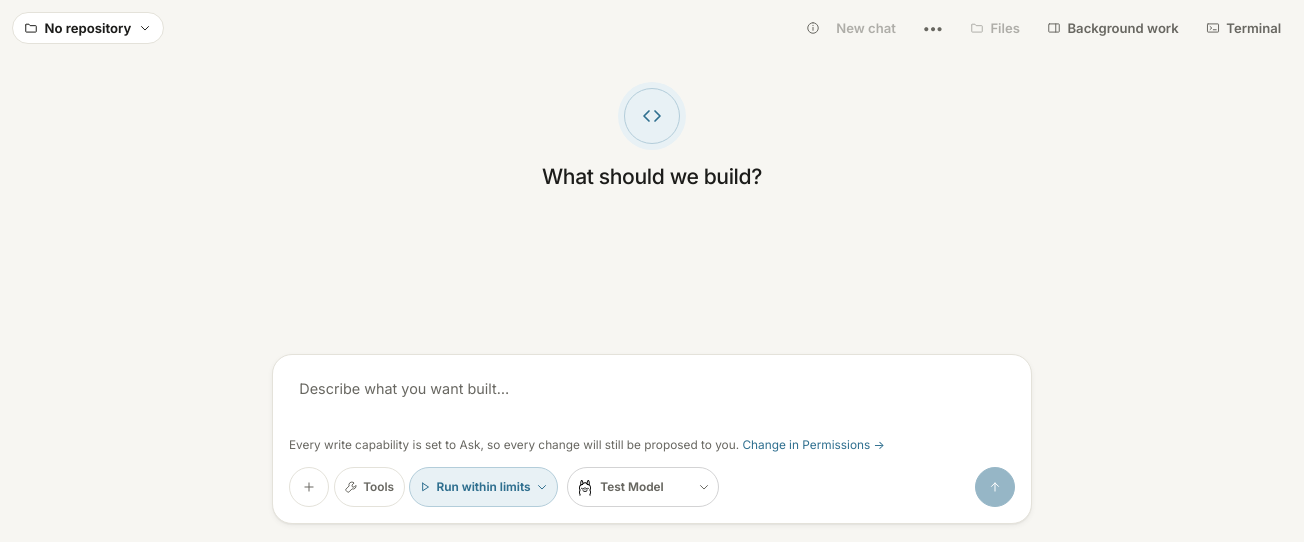
Build's artifact zone › opens the governed terminal beside the conversation, not under it
The image size is (1304, 542).
Click the button named "Add to this turn" at (309, 487), box [289, 467, 329, 507]
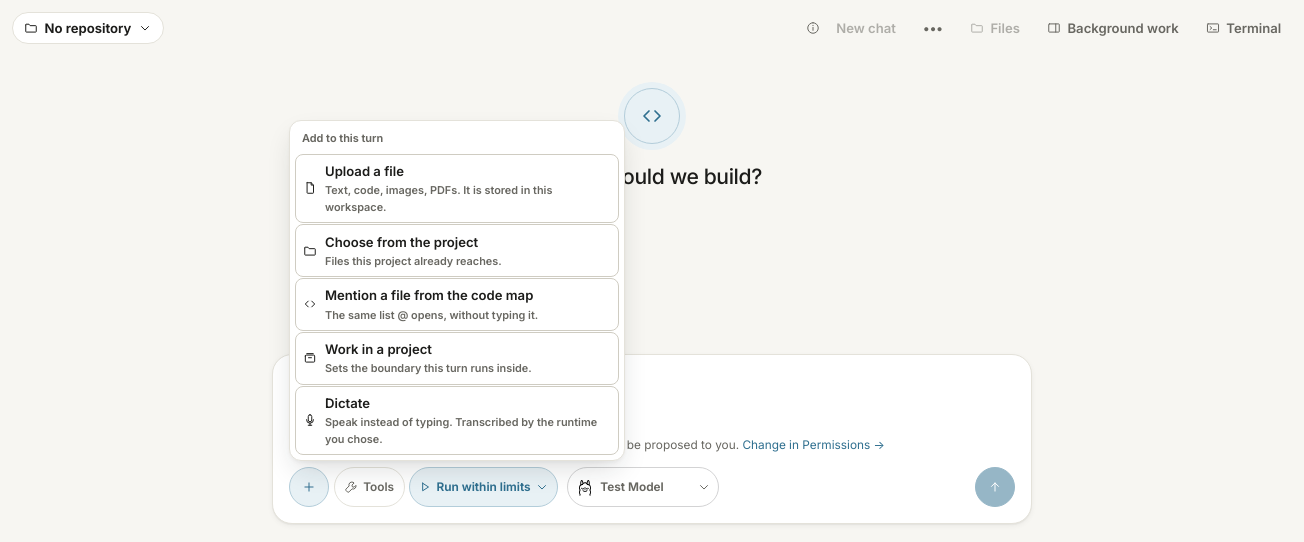
Click the menu item "Work in a project" at (378, 349), box [295, 332, 619, 385]
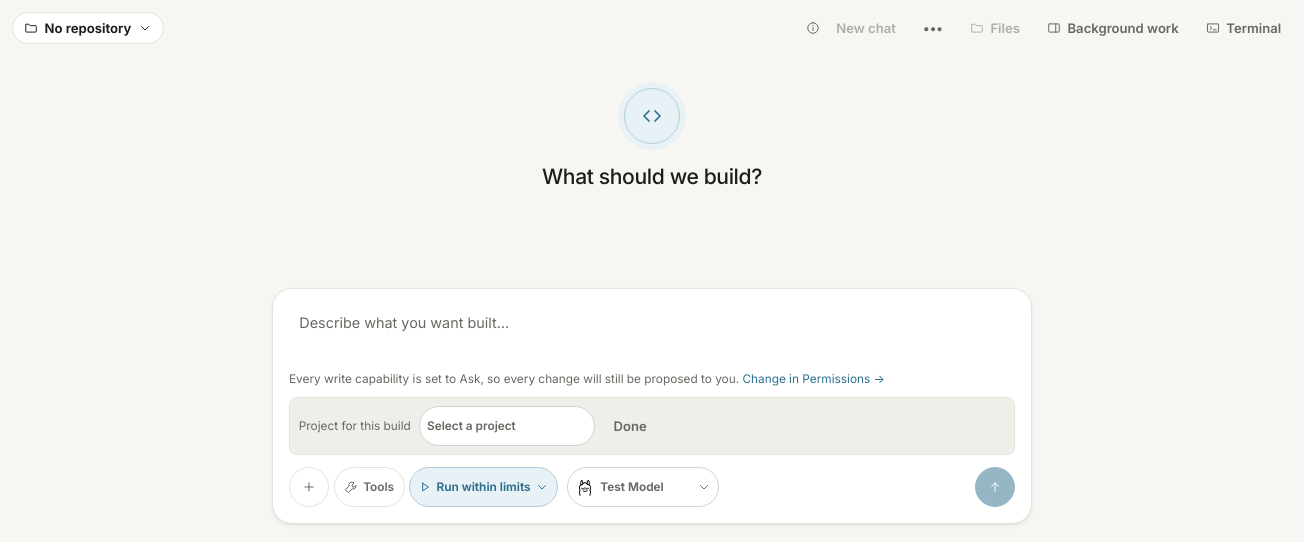
Select "Landing page" in the dropdown labelled "Project for this build" at (507, 426), box [419, 406, 595, 446]
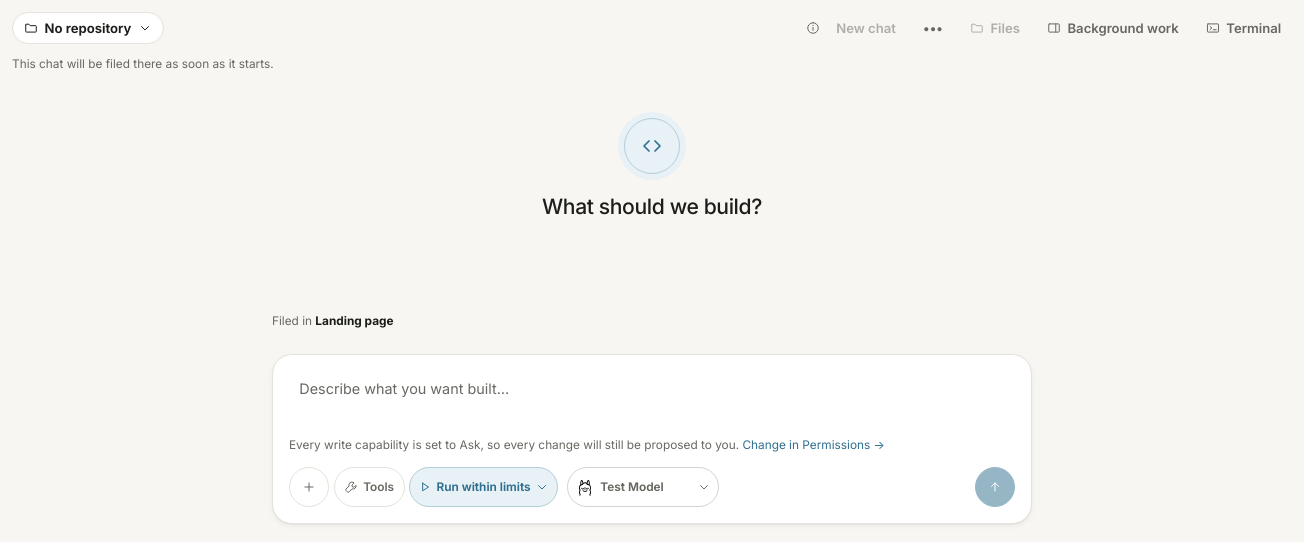
Click the button with aria-label "Show the governed terminal" at (1244, 28), box [1195, 12, 1292, 44]
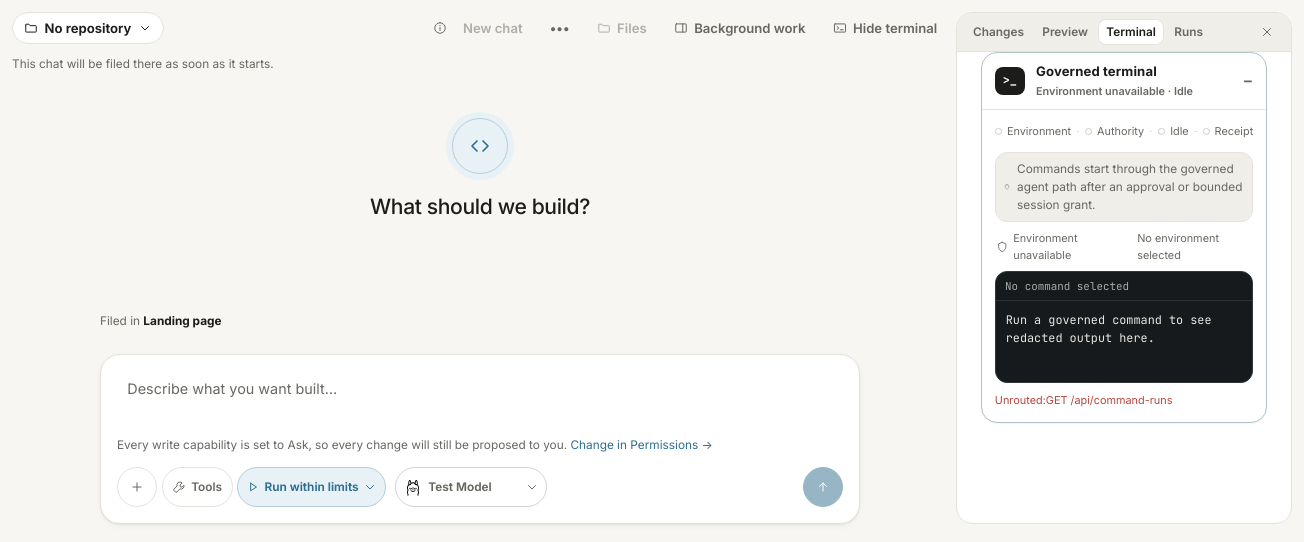
Now the text "Governed terminal" is shown, box [982, 52, 1266, 108]
